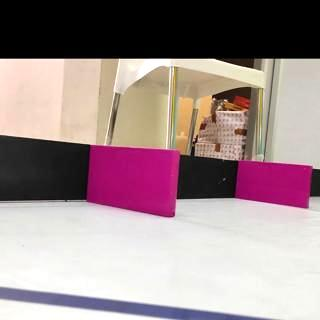xparking: (92, 151, 178, 207), (243, 166, 310, 206)
